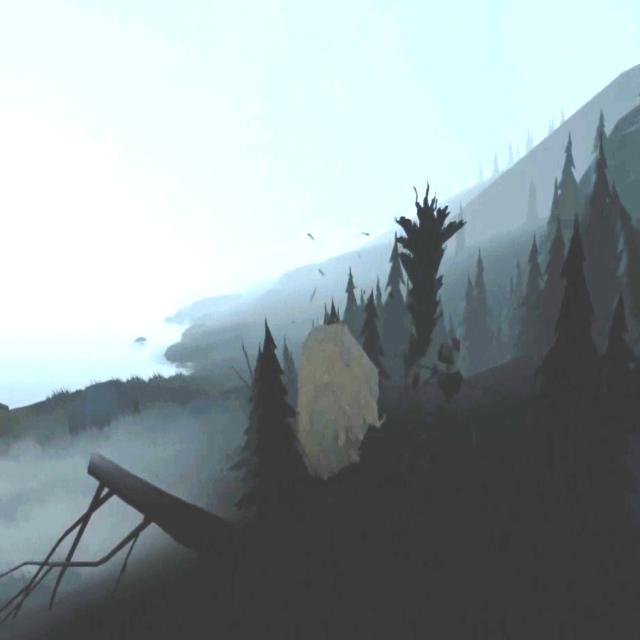blob: (296, 322, 378, 460)
